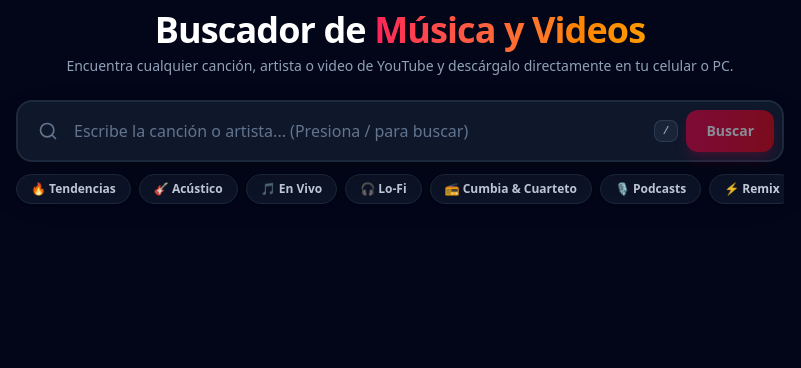
SearchHistory & Touch Theme Chips Tests › permite eliminar un término individual con su icono de X
Focus the field with placeholder "Escribe la canción o artista... (Presiona / para buscar)" at (360, 131), box [66,111,654,151]
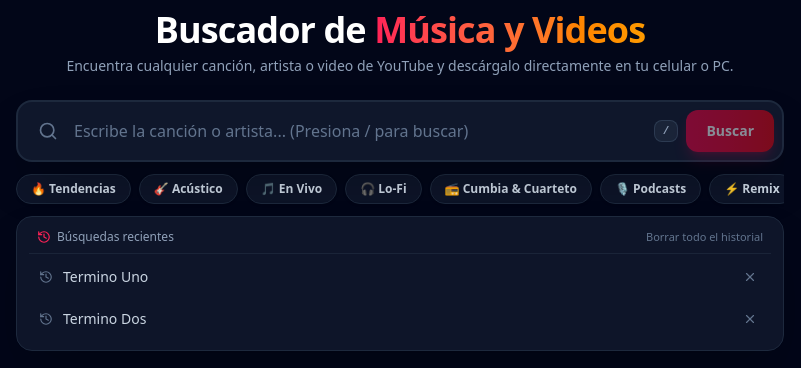
Expected: the text "Termino Uno" is shown, [63,267,148,287]
Expected: the text "Termino Dos" is shown, [63,309,146,329]
Click the button named "Eliminar Termino Uno del historial" at (750, 277), box [739,266,761,288]
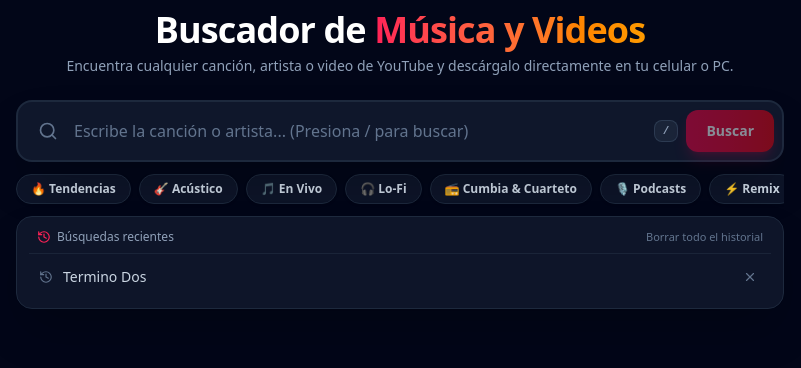
Expected: the text "Termino Dos" is shown, [63,267,146,287]
Expected: the text "Termino Uno" is gone
